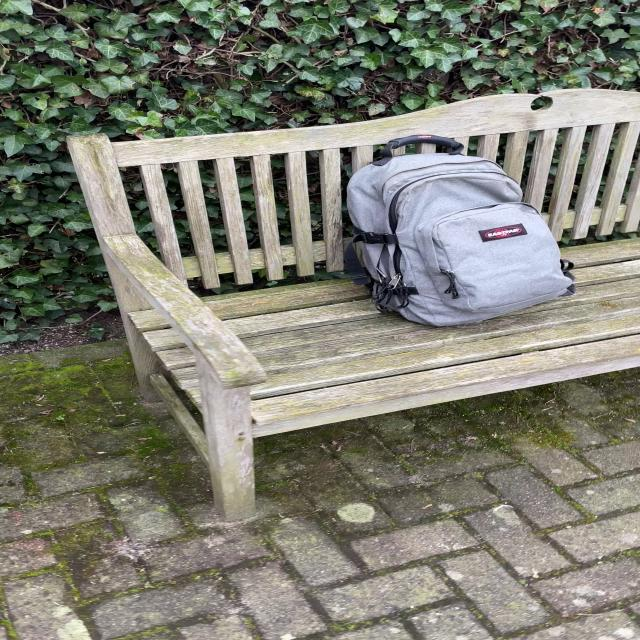backpack: (332, 129, 580, 331)
